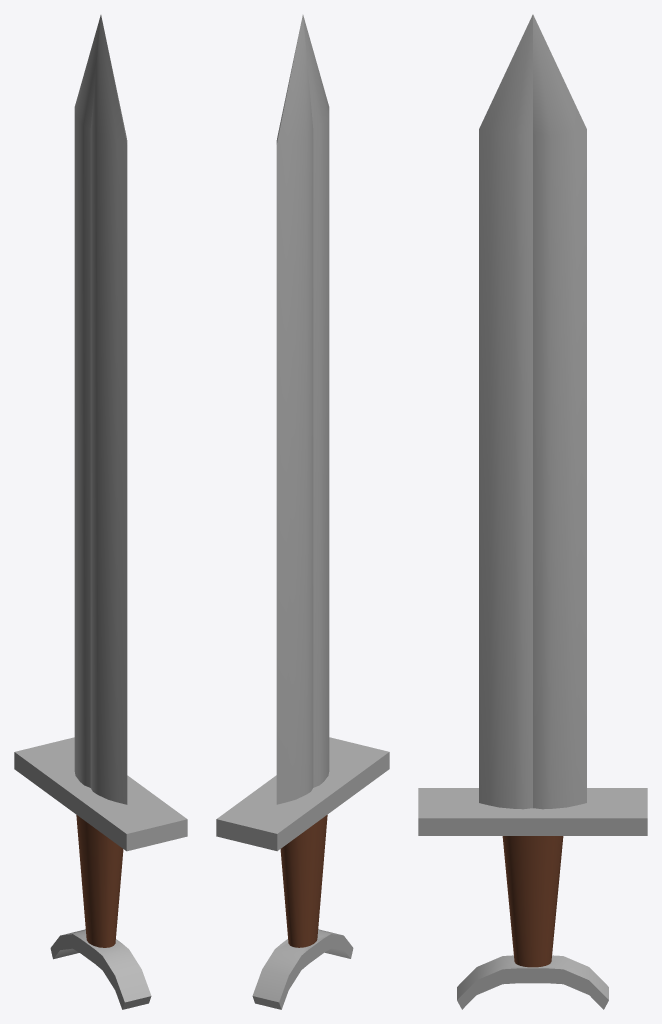
File: vikingsword.fbx
3 views of the same model, side by side, from view 1: azimuth 30°, elevation 25°; view 2: azimuth 150°, elevation 25°; view 3: azimuth 270°, elevation 25° (orthographic). The views are drawn at different scales.
Parts seen in each view (by area): view 1: Circle; view 2: Circle; view 3: Circle.
Boxes of the visible parts, <box> form: Circle: <box>14,15,187,1009</box>; Circle: <box>216,15,389,1009</box>; Circle: <box>418,14,647,1009</box>.
Bounding box in the file's own units: 28.69 × 436 × 91.67.
